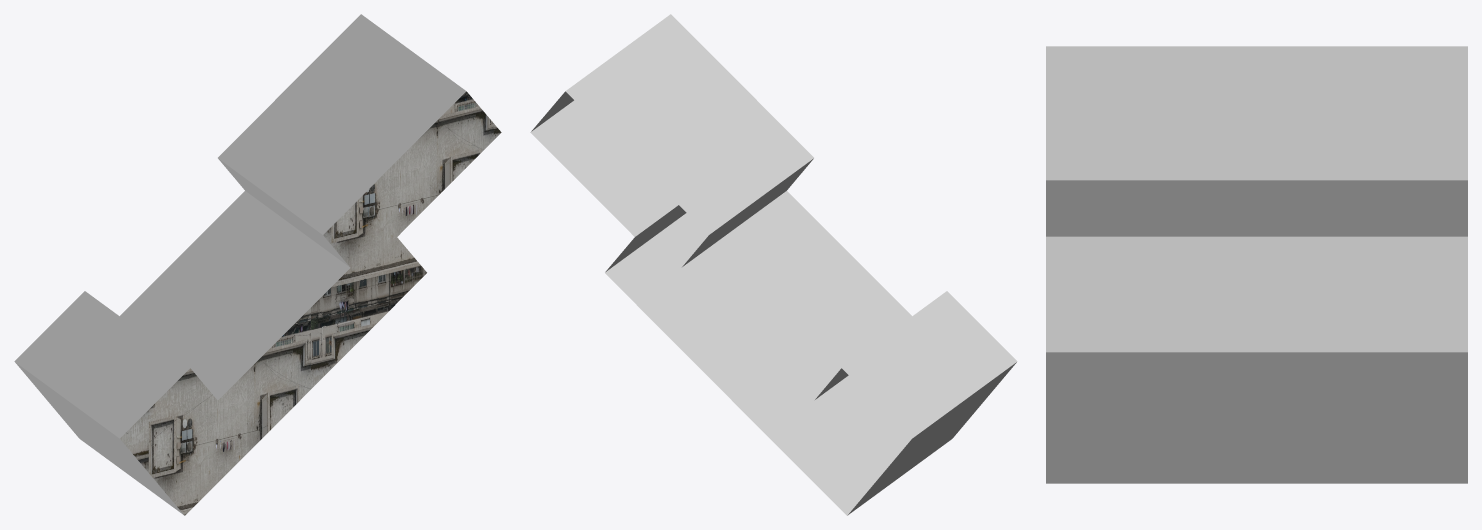
File: geospecific_1299.obj
The picture shows the model from 3 angles, left to right: view 1: azimuth 30°, elevation 25°; view 2: azimuth 150°, elevation 25°; view 3: azimuth 270°, elevation 25°; orthographic projection. The views are drawn at different scales.
Visible parts, largest first — view 1: Building; view 2: Building; view 3: Building.
Boxes of the visible parts, x1,y1,x2,y2 form: Building: (14,14,501,515); Building: (530,14,1017,515); Building: (1046,46,1467,483).
Size of the model in its own units: 18.81 by 16.77 by 9.
